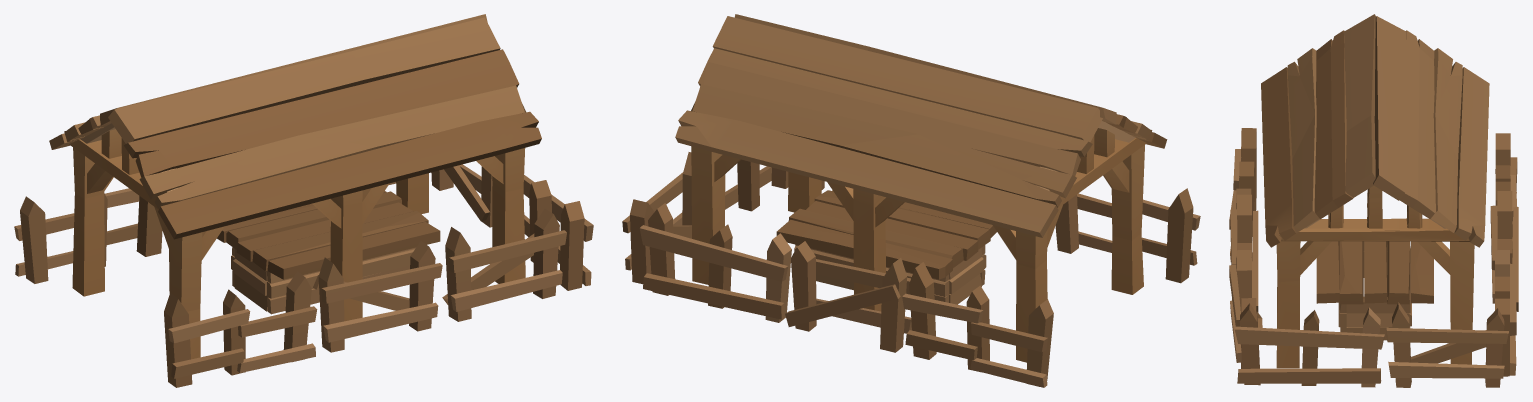
The model's file is House_Stable_B.fbx.
3 views of the same model, side by side, from view 1: azimuth 30°, elevation 25°; view 2: azimuth 150°, elevation 25°; view 3: azimuth 270°, elevation 25° (orthographic). The views are drawn at different scales.
Parts seen in each view (by area): view 1: House_Stable_B; view 2: House_Stable_B; view 3: House_Stable_B.
Part boxes in pixels (left/top/right/bottom): House_Stable_B: left=14, top=14, right=593, bottom=387; House_Stable_B: left=622, top=14, right=1200, bottom=387; House_Stable_B: left=1229, top=14, right=1518, bottom=387.
Bounding box in the file's own units: 576 × 291 × 375.
